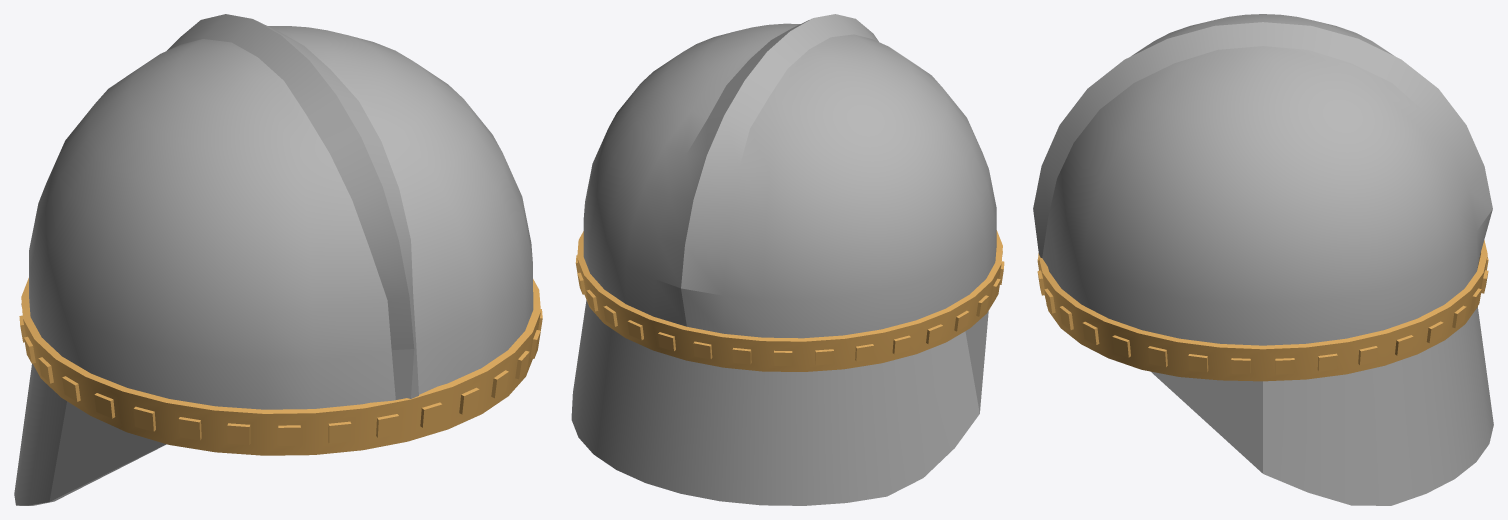
The model's file is helmet1.fbx.
3 views of the same model, side by side, from view 1: azimuth 30°, elevation 25°; view 2: azimuth 150°, elevation 25°; view 3: azimuth 270°, elevation 25° (orthographic). The views are drawn at different scales.
Visible parts, largest first — view 1: Sphere, Sphere.001; view 2: Sphere, Sphere.001; view 3: Sphere, Sphere.001.
Part boxes in pixels (box(x1,y1,x2,y2)): Sphere: box(14, 14, 533, 505); Sphere.001: box(19, 278, 542, 455); Sphere: box(571, 14, 996, 505); Sphere.001: box(575, 230, 1004, 371); Sphere: box(1033, 14, 1493, 505); Sphere.001: box(1037, 240, 1488, 381).
Bounding box in the file's own units: 195 × 188 × 195.
